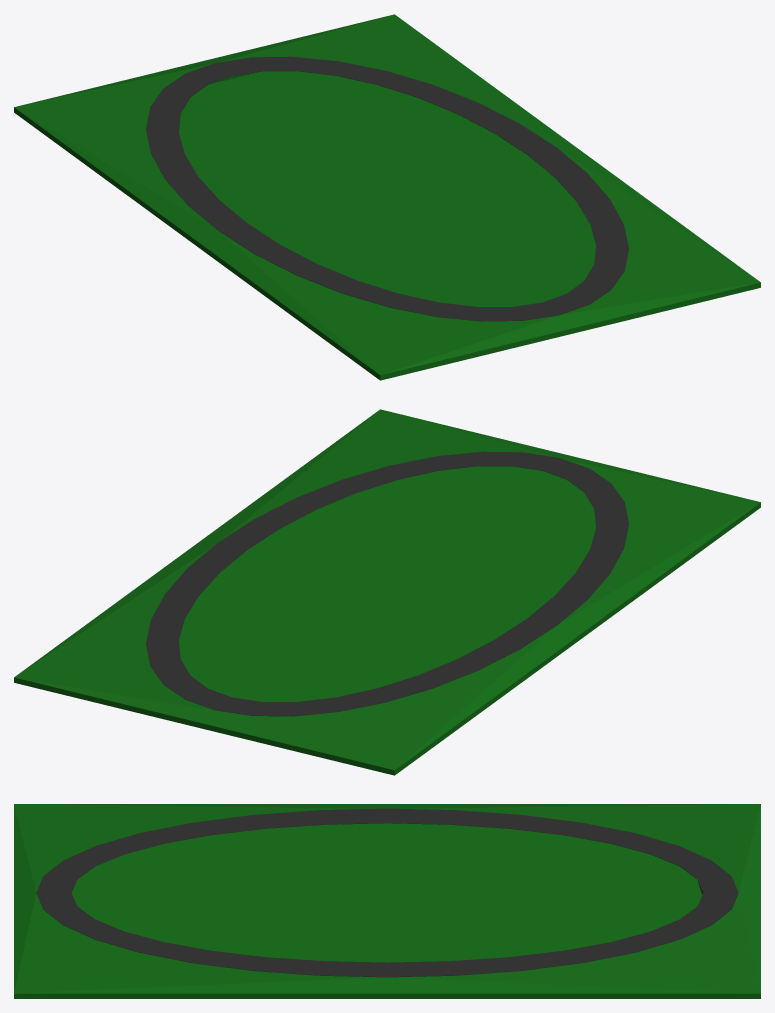
File: running_track.gltf
The picture shows the model from 3 angles, top to bottom: view 1: azimuth 30°, elevation 25°; view 2: azimuth 150°, elevation 25°; view 3: azimuth 270°, elevation 25°; orthographic projection.
Parts seen in each view (by area): view 1: field, track; view 2: field, track; view 3: field, track.
Part boxes in pixels (x1,y1,x2,y2): field: (14,14,760,380); track: (146,56,628,321); field: (14,409,760,775); track: (146,451,628,716); field: (14,804,760,998); track: (36,808,738,977).
Size of the model in its own units: 75 by 2.1 by 125.
